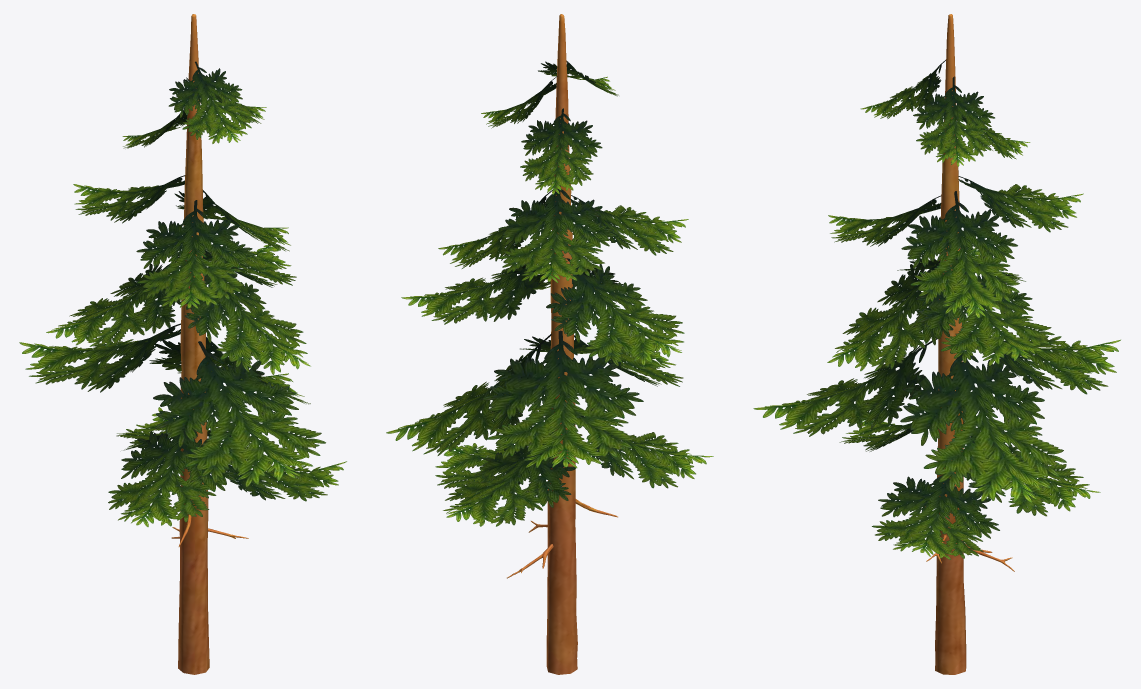
Rendered from Pine model  A (8).glb.
3 renders of one model, left to right at view 1: azimuth 30°, elevation 25°; view 2: azimuth 150°, elevation 25°; view 3: azimuth 270°, elevation 25°, orthographic.
Visible parts, largest first — view 1: small_stylized_pine_var3; view 2: small_stylized_pine_var3; view 3: small_stylized_pine_var3.
Part boxes in pixels (box(x1,y1,x2,y2)): small_stylized_pine_var3: box(19, 14, 346, 674); small_stylized_pine_var3: box(386, 14, 713, 674); small_stylized_pine_var3: box(753, 14, 1120, 674).
Size of the model in its own units: 375 by 832 by 437.
2 materials, 2 textured.
